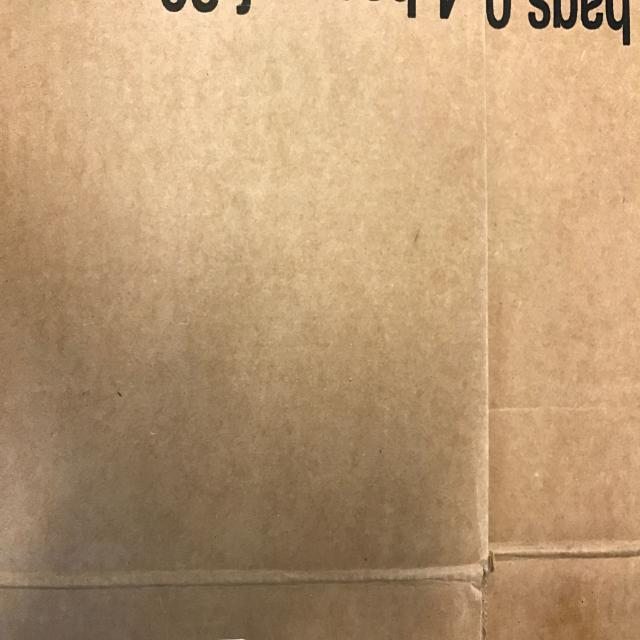cardboard: (1, 1, 638, 636)
